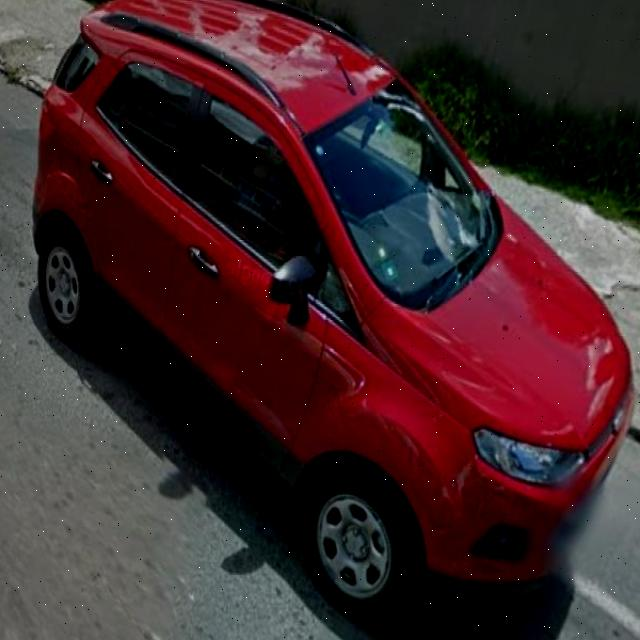car: (25, 0, 638, 640)
